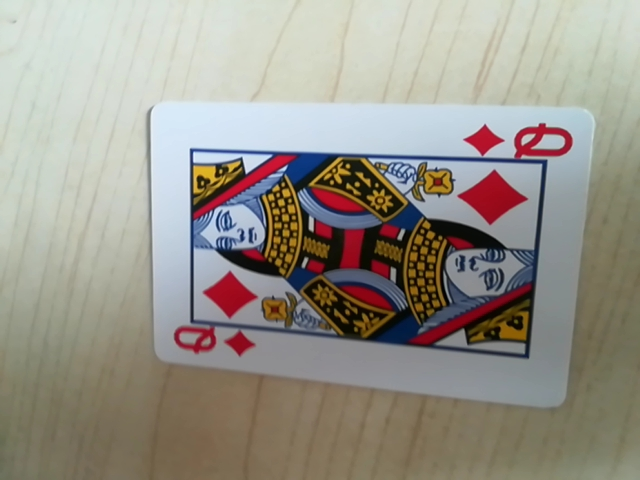fk q: (466, 121, 579, 162), (167, 323, 257, 364)
